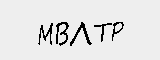В: (56, 18, 72, 47)
Л: (72, 19, 92, 49)
М: (38, 20, 55, 48)
Р: (110, 21, 126, 43)
Т: (94, 22, 110, 42)
